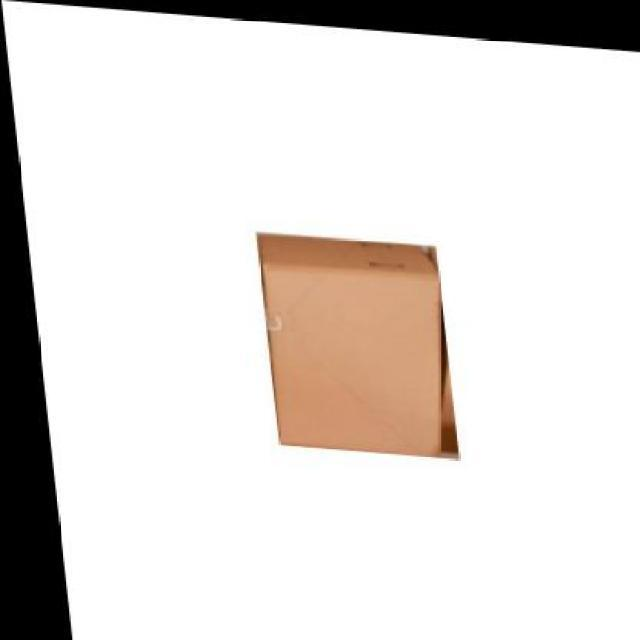box: (256, 226, 447, 449)
